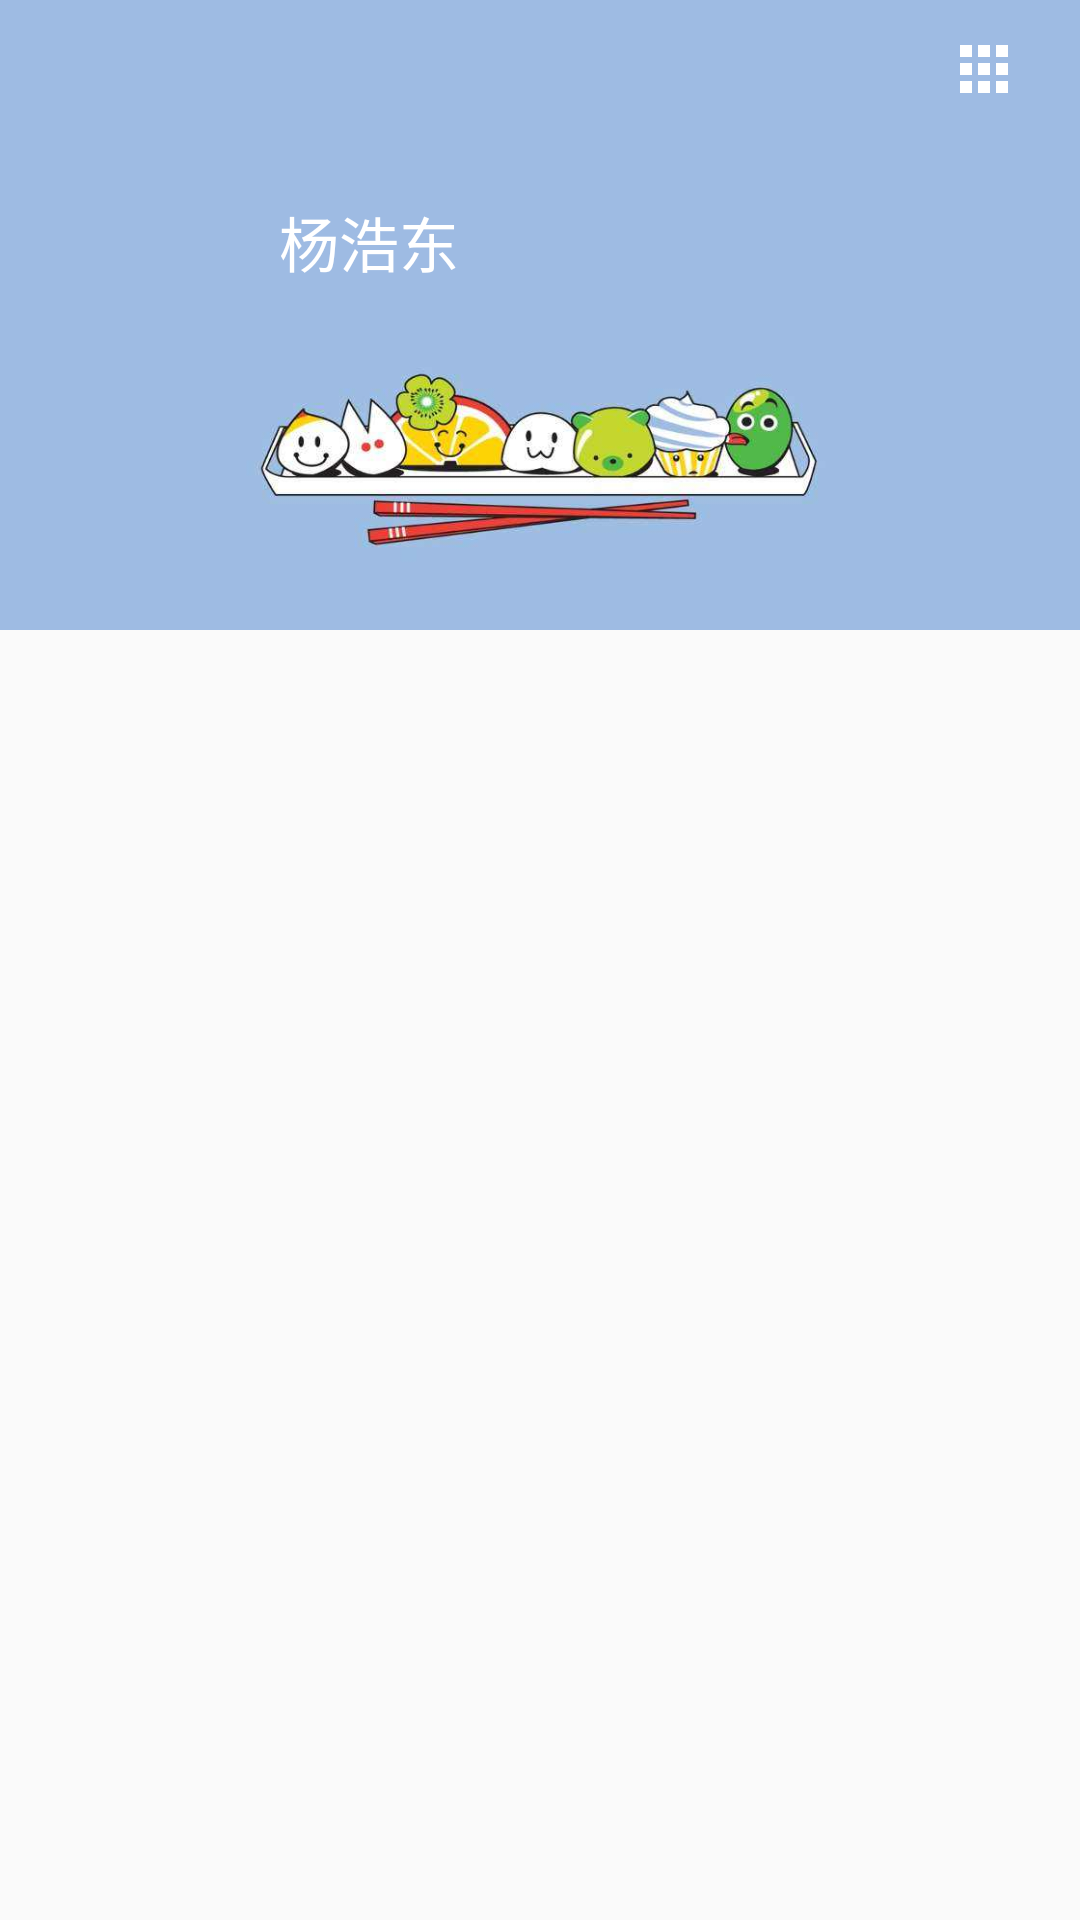

Icon click points for this 1080x1920 phone screenshot, format [x,y]:
apps: [984,69]
